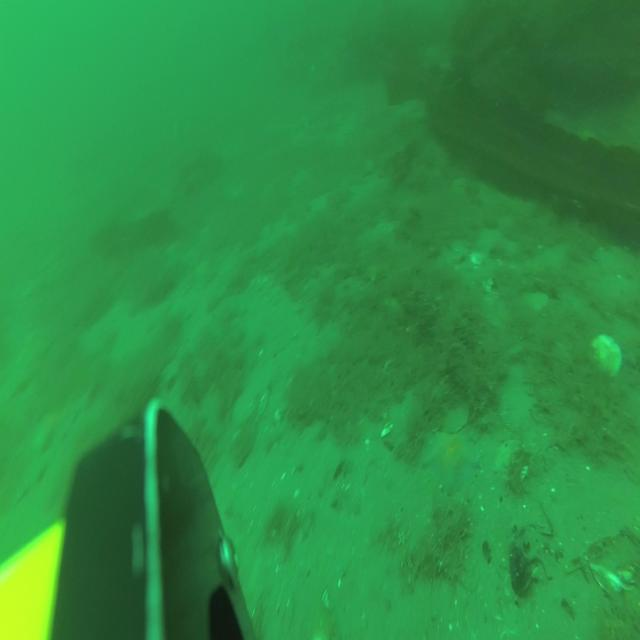scallop: (589, 331, 623, 376)
starfish: (422, 428, 481, 492)
